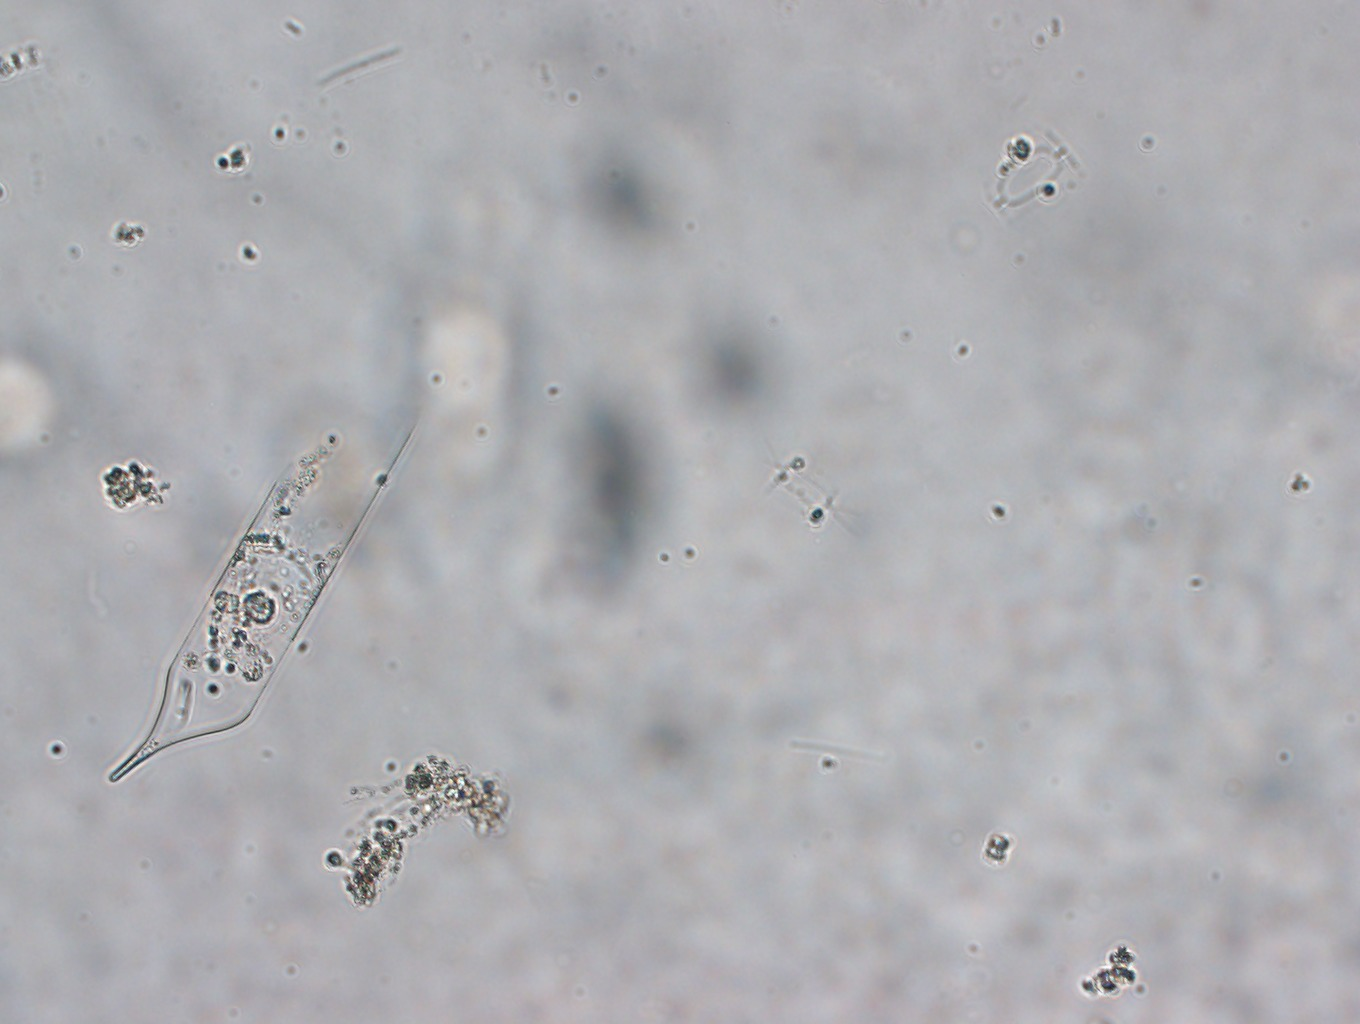rhizosolenia: (108, 416, 418, 783)
